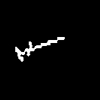double_crochet: (15, 37, 64, 60)
